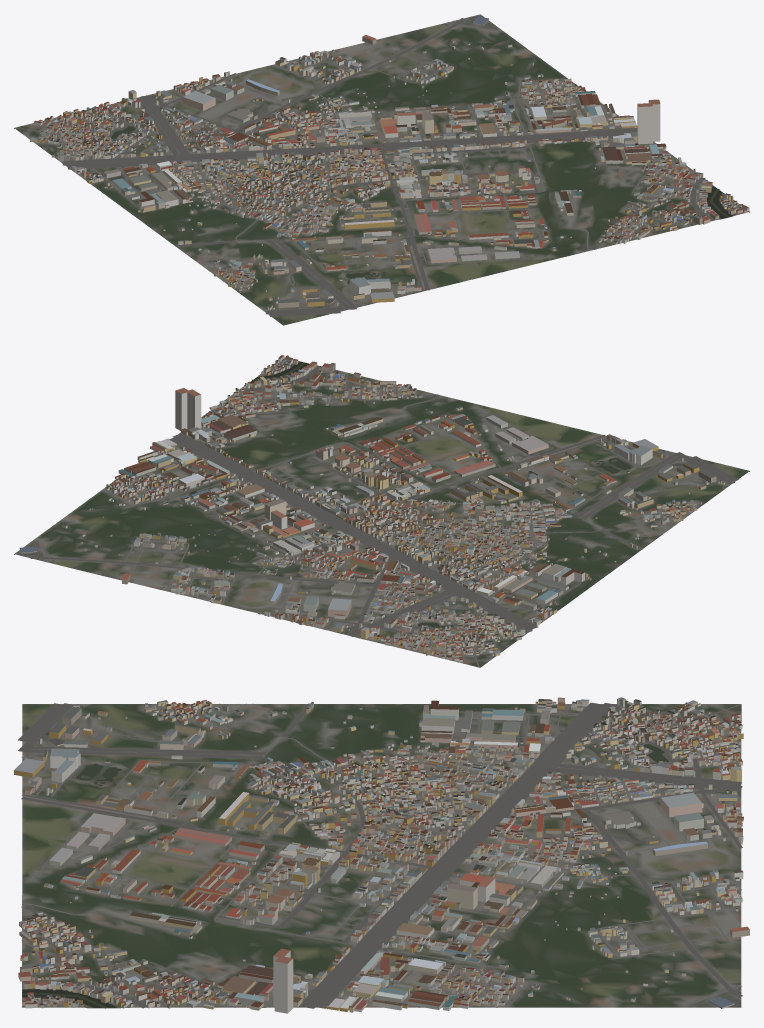
3 renders of one model, top to bottom at view 1: azimuth 30°, elevation 25°; view 2: azimuth 150°, elevation 25°; view 3: azimuth 270°, elevation 25°, orthographic. The views are drawn at different scales.
Parts seen in each view (by area): view 1: ground, buildings, roads, water; view 2: ground, buildings, roads, water; view 3: ground, buildings, roads, water.
Boxes of the visible parts, x1,y1,x2,y2 form: ground: (14,14,749,325); buildings: (30,16,749,309); roads: (15,17,741,316); water: (111,126,732,283); ground: (14,357,749,667); buildings: (19,355,725,662); roads: (26,362,738,667); water: (251,361,631,628); ground: (22,704,741,1008); buildings: (14,697,749,1013); roads: (18,702,742,1008); water: (22,744,668,1008).
Size of the model in its own units: 1433 by 111 by 1435.
